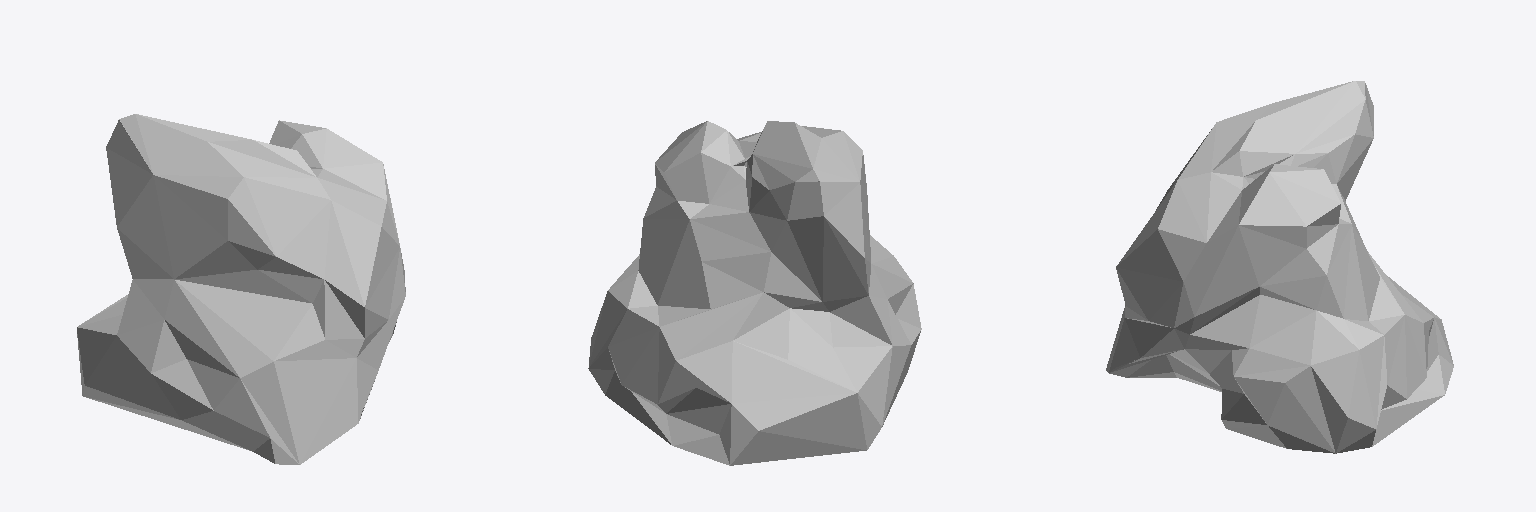
Rendered from Stone_low_1_Stone_low_1_0.obj.
3 views of the same model, side by side, from view 1: azimuth 30°, elevation 25°; view 2: azimuth 150°, elevation 25°; view 3: azimuth 270°, elevation 25° (orthographic).
Visible parts, largest first — view 1: Stone_low_1_Stone_low_1_0; view 2: Stone_low_1_Stone_low_1_0; view 3: Stone_low_1_Stone_low_1_0.
Part boxes in pixels (bbox=[...]): Stone_low_1_Stone_low_1_0: bbox=[77, 114, 405, 464]; Stone_low_1_Stone_low_1_0: bbox=[588, 121, 921, 465]; Stone_low_1_Stone_low_1_0: bbox=[1106, 81, 1453, 453].
Bounding box in the file's own units: 1.08 × 0.9787 × 1.15.